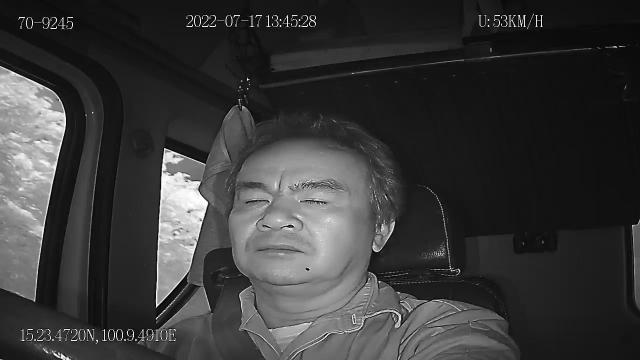SafeDriving: (293, 187, 339, 210)
Seatbelt: (210, 274, 268, 360)
